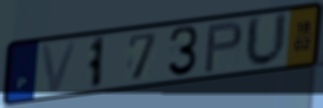1: (87, 34, 108, 91)
3: (166, 25, 201, 79)
7: (126, 31, 159, 83)
P: (202, 19, 245, 75)
U: (243, 10, 290, 69)
V: (39, 39, 81, 95)
